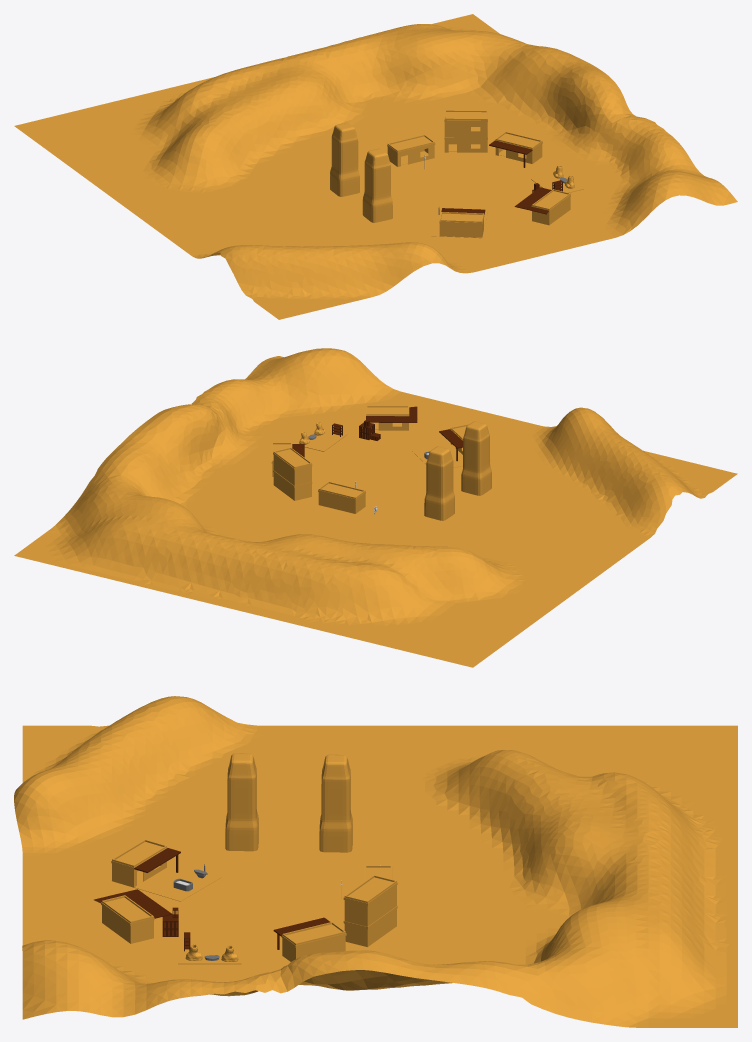
Rendered from LOC3.fbx.
3 views of the same model, one above another, from view 1: azimuth 30°, elevation 25°; view 2: azimuth 150°, elevation 25°; view 3: azimuth 270°, elevation 25° (orthographic). The views are drawn at different scales.
Visible parts, largest first — view 1: Plane, Cube.019, Cube.021, Cube.012, Cube.023, Cube.014, Cube.013, Cube.011, Cylinder; view 2: Plane, Cube.019, Cube.021, Cube.012, Cube.011, Cube.014, Cylinder, Cube.023; view 3: Plane, Cube.023, Cube.012, Cube.019, Cube.021, Cube.014, Cube.013, Cylinder.
Part boxes in pixels (x1=…): Plane: x1=14, y1=14, x2=737, y2=319; Cube.019: x1=330, y1=122, x2=359, y2=196; Cube.021: x1=362, y1=148, x2=392, y2=222; Cube.012: x1=444, y1=110, x2=487, y2=152; Cube.023: x1=429, y1=208, x2=487, y2=238; Cube.014: x1=514, y1=187, x2=570, y2=225; Cube.013: x1=489, y1=131, x2=542, y2=167; Cube.011: x1=387, y1=134, x2=435, y2=166; Cylinder: x1=531, y1=165, x2=583, y2=192; Plane: x1=14, y1=348, x2=737, y2=667; Cube.019: x1=424, y1=446, x2=454, y2=520; Cube.021: x1=461, y1=421, x2=491, y2=495; Cube.012: x1=273, y1=447, x2=312, y2=500; Cube.011: x1=318, y1=481, x2=365, y2=513; Cube.014: x1=366, y1=406, x2=417, y2=430; Cylinder: x1=295, y1=422, x2=347, y2=451; Cube.023: x1=412, y1=424, x2=490, y2=467; Plane: x1=14, y1=696, x2=737, y2=1027; Cube.023: x1=111, y1=839, x2=221, y2=901; Cube.012: x1=343, y1=875, x2=397, y2=946; Cube.019: x1=319, y1=754, x2=352, y2=852; Cube.021: x1=225, y1=753, x2=258, y2=851; Cube.014: x1=94, y1=889, x2=172, y2=943; Cube.013: x1=273, y1=917, x2=346, y2=961; Cylinder: x1=178, y1=932, x2=241, y2=964.
Bounding box in the file's own units: 54087 × 9070 × 54642.
